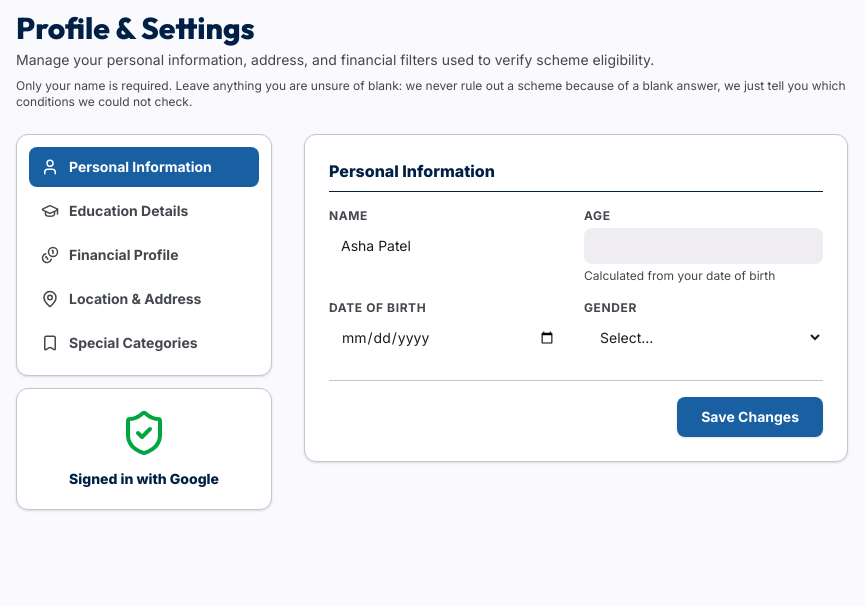
Profile form: only the name is required › saves with a name and every other answer left blank, sending the blanks as blanks
The image size is (865, 606).
Click the button "Save Changes" at (750, 417), box [677,397,823,437]
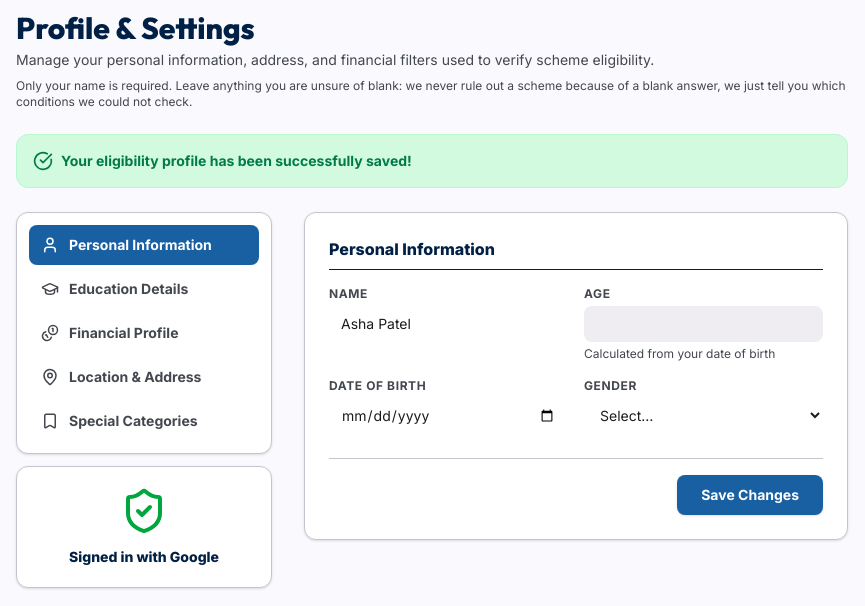
expect the text "Your eligibility profile has been successfully saved!" is shown: met, box [61,151,412,171]
